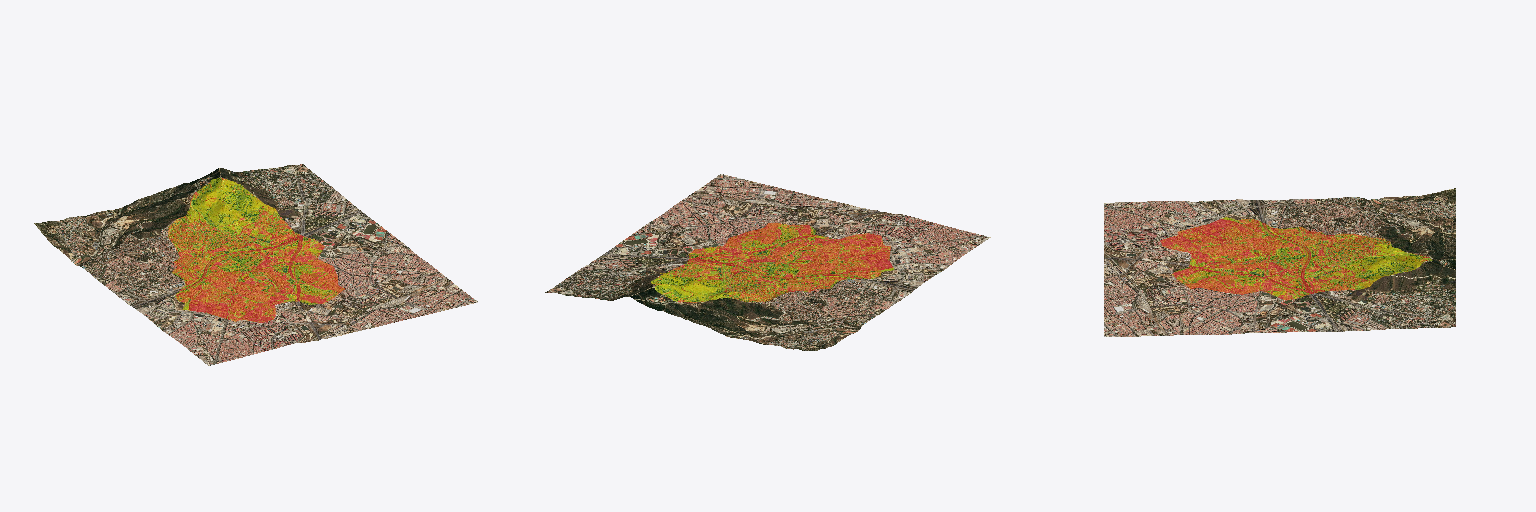
3 views of the same model, side by side, from view 1: azimuth 30°, elevation 25°; view 2: azimuth 150°, elevation 25°; view 3: azimuth 270°, elevation 25° (orthographic).
Visible parts, largest first — view 1: verdUrba_MetElipResi_2_verdUrba_MetElipResi_2.001; view 2: verdUrba_MetElipResi_2_verdUrba_MetElipResi_2.001; view 3: verdUrba_MetElipResi_2_verdUrba_MetElipResi_2.001.
Boxes of the visible parts, <box> form: verdUrba_MetElipResi_2_verdUrba_MetElipResi_2.001: <box>34,164,477,365</box>; verdUrba_MetElipResi_2_verdUrba_MetElipResi_2.001: <box>545,174,990,350</box>; verdUrba_MetElipResi_2_verdUrba_MetElipResi_2.001: <box>1104,188,1455,336</box>.
Bounding box in the file's own units: 17.33 × 1.83 × 19.54.
1 materials, 1 textured.